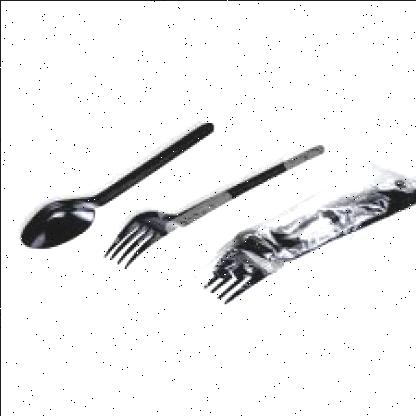Others: (16, 121, 416, 304)
